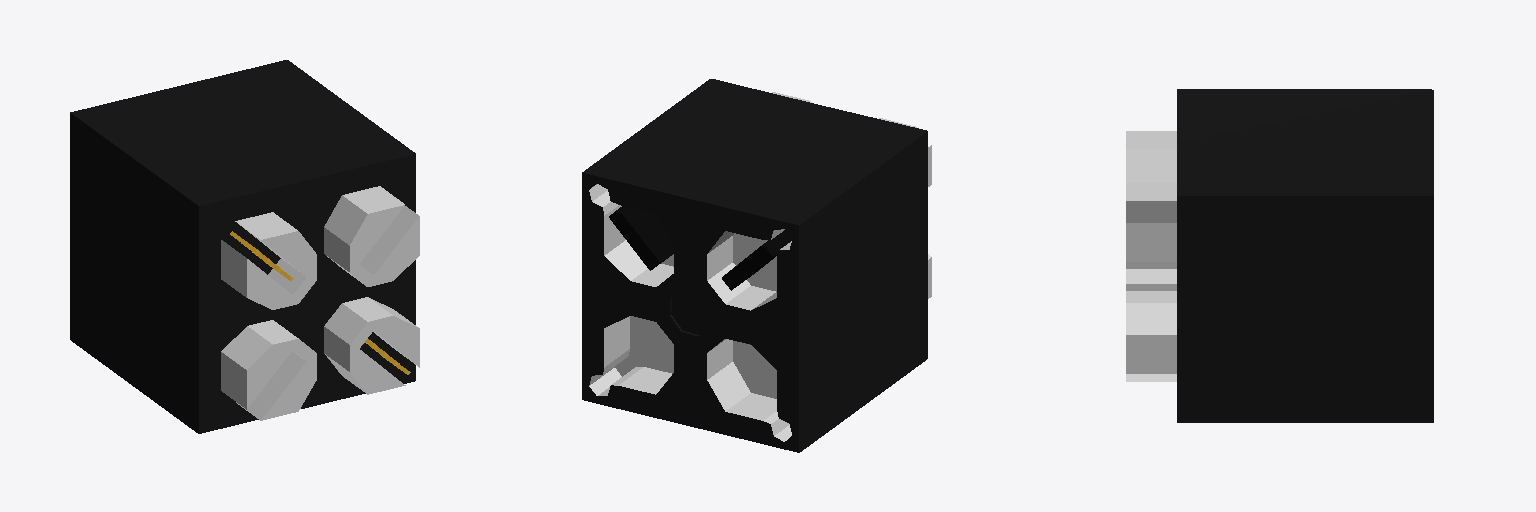
The model's file is blinkyBlockSimple.obj.
The picture shows the model from 3 angles: view 1: azimuth 30°, elevation 25°; view 2: azimuth 150°, elevation 25°; view 3: azimuth 270°, elevation 25°; orthographic projection.
Visible parts, largest first — view 1: bb; view 2: bb; view 3: bb.
Boxes of the visible parts, x1,y1,x2,y2 form: bb: [70, 60, 419, 433]; bb: [582, 79, 931, 452]; bb: [1126, 89, 1433, 422].
Bounding box in the file's own units: 39 × 39.11 × 48.